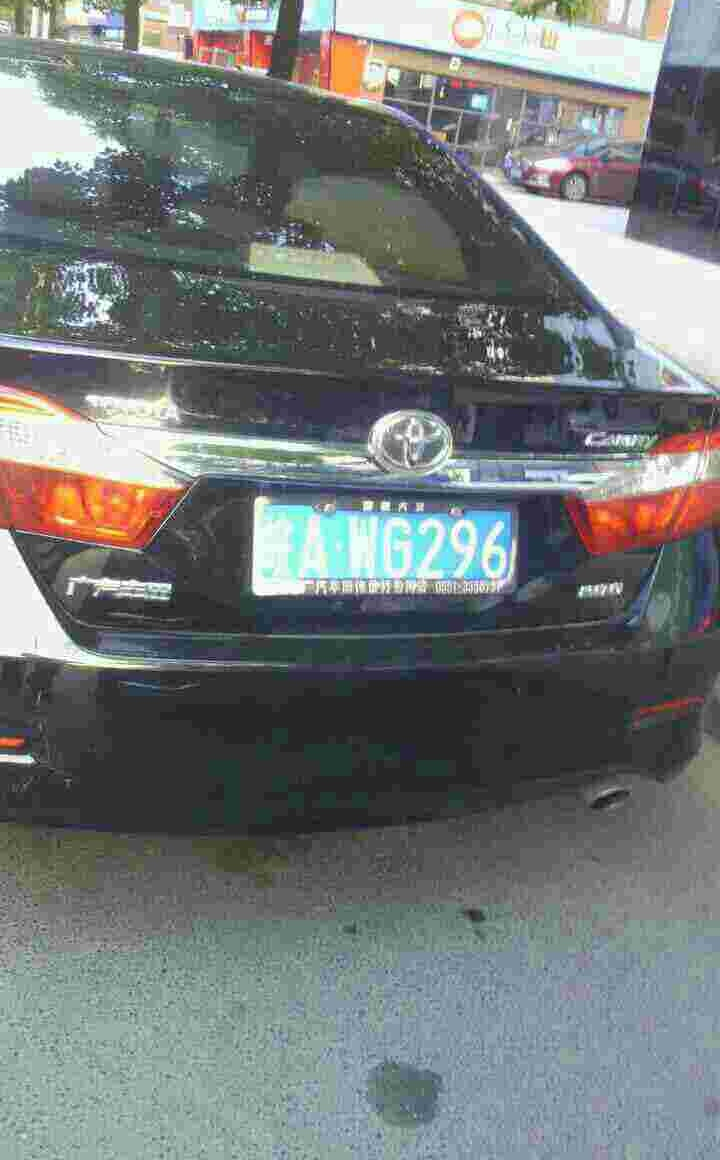license_plate: (261, 500, 517, 589)
